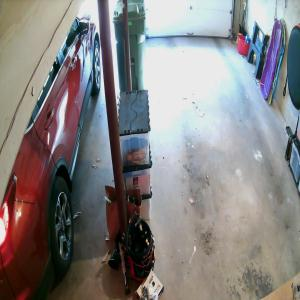garbage bin: (113, 0, 144, 92)
honda crv: (0, 0, 100, 299)
tool bucket: (126, 214, 157, 282)
